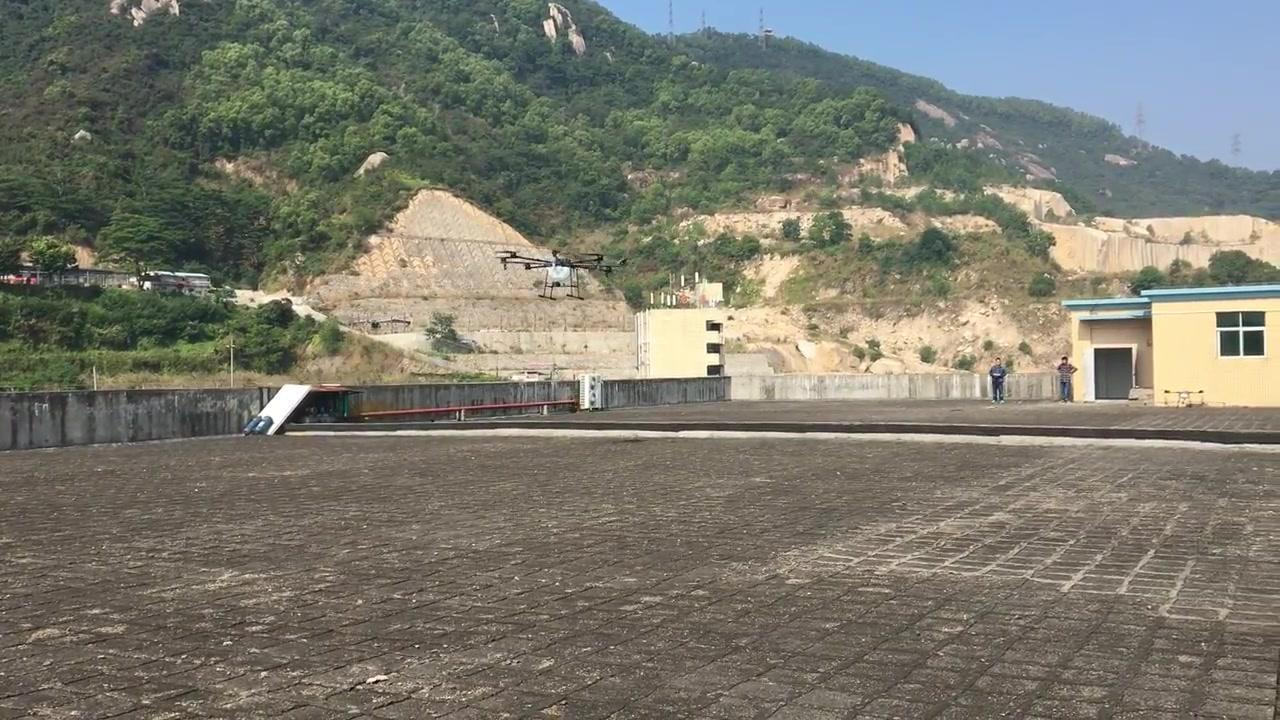UAV: (496, 250, 630, 302)
